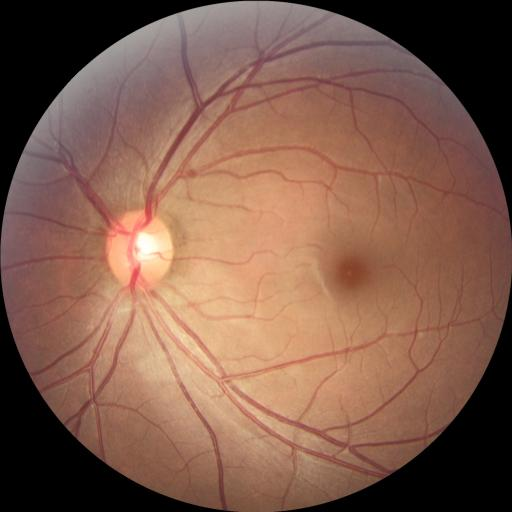Optic Cup: (130, 232, 160, 263)
Optic Disc: (106, 209, 174, 288)
